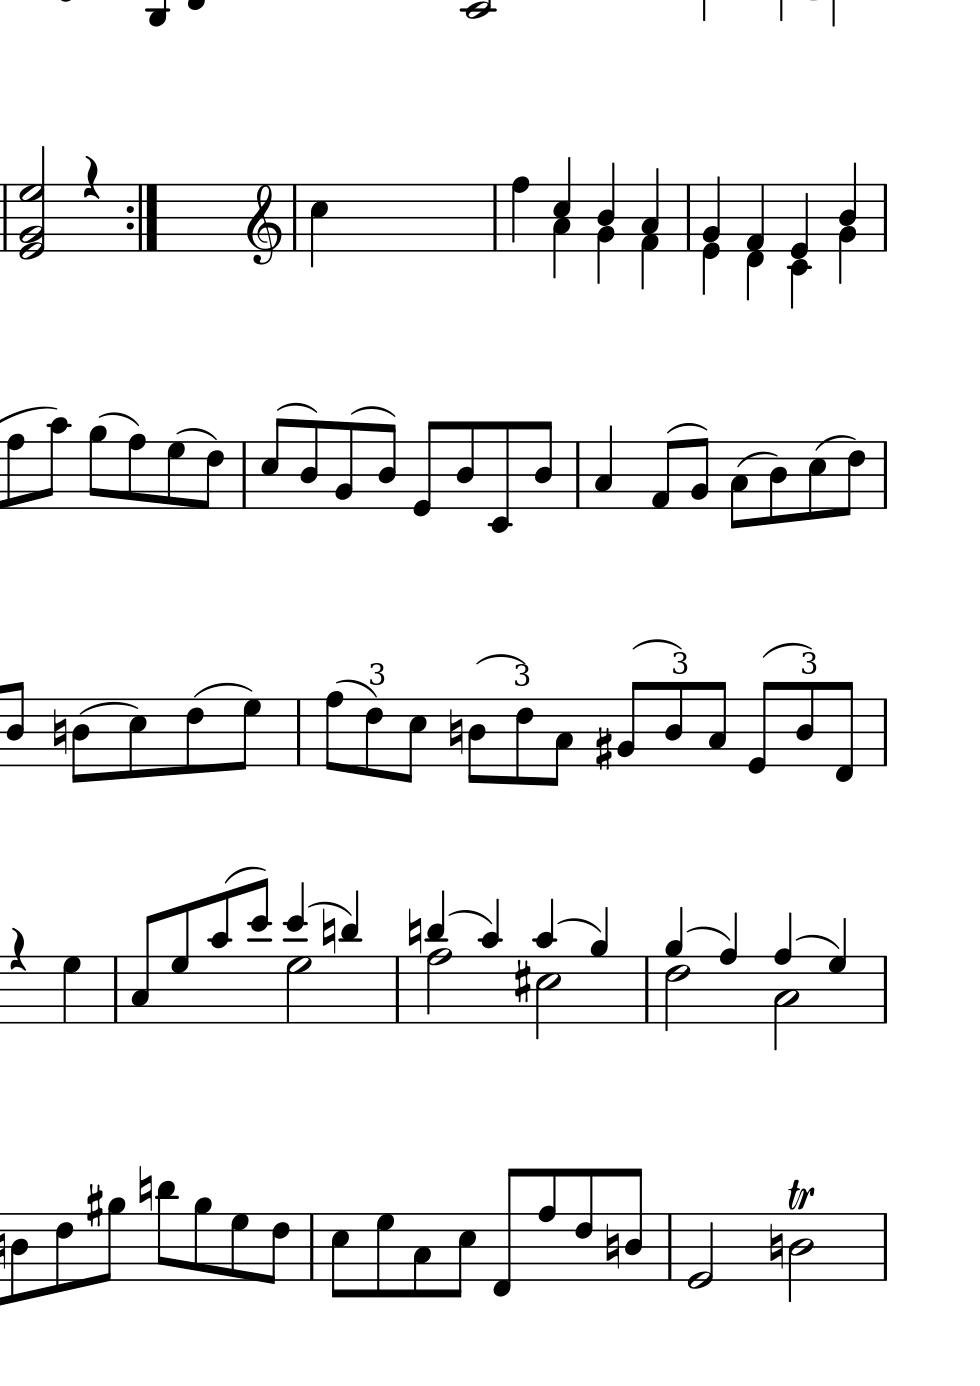2_0: (685, 1211, 714, 1291)
2_4: (787, 1211, 813, 1303)
2_5: (533, 953, 563, 1040)
2_6: (663, 954, 692, 1031)
2_7: (284, 954, 312, 1025)
2_8: (425, 947, 453, 1027)
3: (669, 650, 689, 678), (798, 650, 818, 678), (512, 664, 531, 690)
4_-1_1: (745, 185, 766, 302)
4_-2_0: (787, 183, 813, 308)
4_0_2: (702, 176, 721, 293)
4_10: (478, 897, 500, 1027)
4_11: (342, 889, 360, 1027)
4_1_3: (640, 166, 660, 290)
4_2_4: (596, 162, 616, 286), (838, 161, 858, 284)
4_3: (592, 424, 614, 511)
4_3_5: (552, 156, 573, 282)
4_5: (308, 182, 330, 269)
4_7: (829, 917, 847, 1024), (62, 955, 81, 1025)
4_8: (719, 913, 738, 1027), (509, 175, 530, 253)
4_9: (590, 903, 609, 1024)
8_-1: (490, 1166, 521, 1299), (832, 679, 856, 785)
8_-2: (486, 418, 514, 536)
8_0: (746, 680, 777, 778), (412, 419, 441, 521)
8_1: (648, 438, 676, 511)
8_10: (206, 892, 230, 1025), (39, 416, 72, 511)
8_11: (155, 1178, 178, 1282)
8_12: (247, 876, 272, 1027)
8_2: (615, 680, 644, 769), (332, 420, 356, 511), (688, 436, 710, 512)
8_3: (129, 912, 158, 1027), (548, 697, 575, 790), (727, 439, 750, 531), (409, 1212, 432, 1300), (706, 680, 728, 769)
8_4: (623, 1166, 644, 1284), (296, 419, 321, 512), (453, 419, 478, 511), (530, 419, 555, 511), (662, 681, 685, 769), (766, 440, 789, 526), (69, 697, 90, 786), (377, 423, 398, 511), (4, 680, 25, 768), (466, 698, 487, 786), (8, 1212, 29, 1304), (795, 680, 816, 768)
8_5: (257, 417, 288, 510), (400, 696, 427, 785), (450, 1211, 477, 1299), (329, 1212, 350, 1301), (126, 696, 147, 780), (805, 439, 827, 520)
8_6: (571, 1166, 594, 1283), (840, 440, 867, 517), (197, 440, 226, 511), (512, 697, 535, 788), (264, 1212, 291, 1286), (53, 1212, 75, 1295), (362, 698, 384, 778), (182, 697, 204, 777)
8_7: (169, 902, 190, 1027), (232, 697, 261, 772), (373, 1211, 396, 1299), (226, 1211, 250, 1282), (164, 439, 187, 510)
8_8: (535, 1166, 558, 1282), (322, 689, 344, 773), (126, 432, 148, 511)
8_9: (97, 1196, 127, 1283), (85, 424, 108, 510), (191, 1196, 213, 1282), (3, 432, 27, 512)
Gclef: (246, 183, 282, 266)
Natural: (135, 1163, 153, 1214), (603, 1223, 622, 1271), (320, 906, 337, 957), (406, 905, 423, 955), (766, 1221, 783, 1271), (51, 708, 68, 757), (447, 709, 463, 756)
Rests4: (81, 154, 100, 200), (8, 927, 27, 972)
RightRepeatSign: (123, 183, 160, 252)
Sharp: (591, 725, 615, 773), (512, 957, 532, 1006), (84, 1182, 103, 1229)
Single_barline: (285, 185, 303, 252), (876, 698, 893, 766), (303, 1213, 320, 1281), (876, 1213, 893, 1281), (876, 957, 893, 1023), (570, 441, 587, 507), (290, 699, 307, 765), (107, 957, 124, 1022), (389, 957, 406, 1022), (638, 957, 655, 1022), (661, 1214, 678, 1280), (877, 185, 893, 251), (487, 185, 503, 250), (876, 442, 892, 508), (1, 185, 12, 251)
Slur: (1, 404, 56, 425), (194, 680, 251, 698), (762, 641, 813, 660), (797, 932, 838, 952), (558, 916, 601, 935), (474, 651, 526, 667), (80, 701, 135, 716), (336, 678, 377, 698), (450, 907, 490, 927), (687, 923, 728, 943), (735, 450, 777, 469), (632, 636, 683, 652), (307, 899, 351, 917), (813, 433, 854, 452), (349, 403, 396, 419), (97, 410, 140, 427), (226, 865, 262, 884), (176, 425, 216, 440), (666, 420, 705, 435), (278, 401, 317, 414)
Trill: (785, 1176, 815, 1214)
